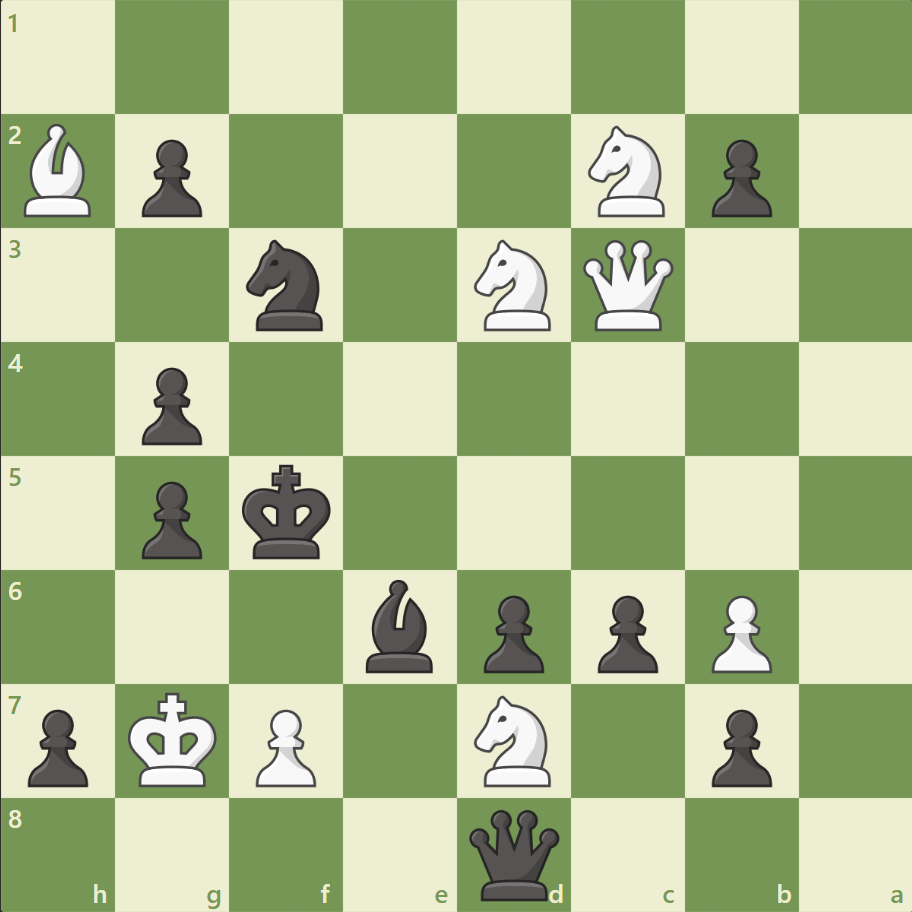B: (17, 120, 101, 222)
K: (124, 685, 224, 793)
N: (465, 688, 562, 791), (465, 234, 562, 337), (579, 121, 676, 223)
P: (247, 700, 322, 791), (701, 586, 776, 677)
Q: (578, 236, 677, 335)
b: (358, 574, 442, 676)
k: (238, 458, 338, 566)
n: (238, 234, 335, 337)
p: (701, 700, 776, 791), (20, 700, 95, 791), (474, 586, 549, 677), (133, 473, 208, 564), (133, 359, 208, 450), (701, 132, 776, 223), (133, 132, 208, 223), (588, 586, 662, 677)
q: (464, 804, 563, 903)
